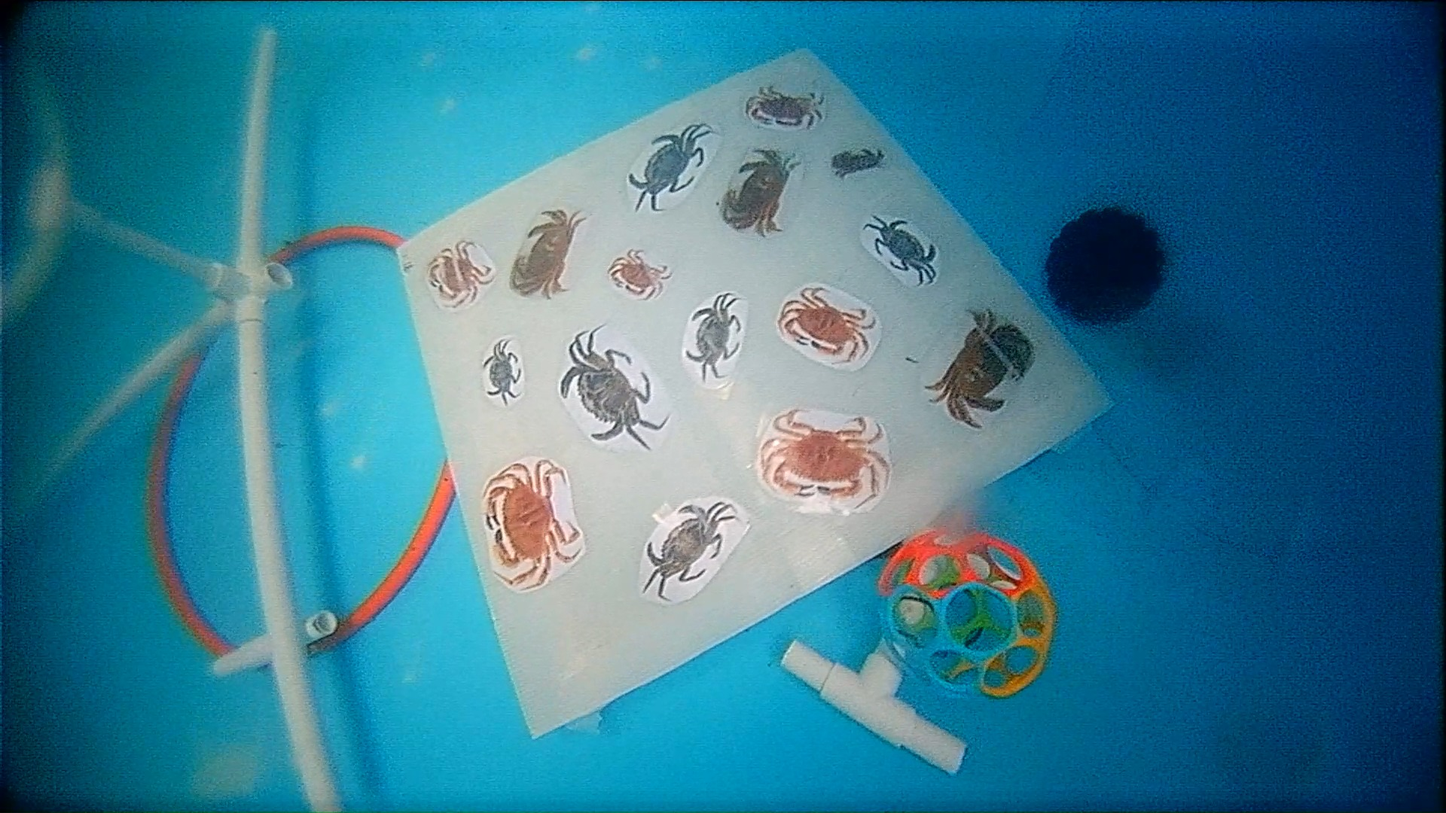GreenCrab: (643, 500, 738, 598), (865, 215, 935, 285), (487, 340, 520, 405)
